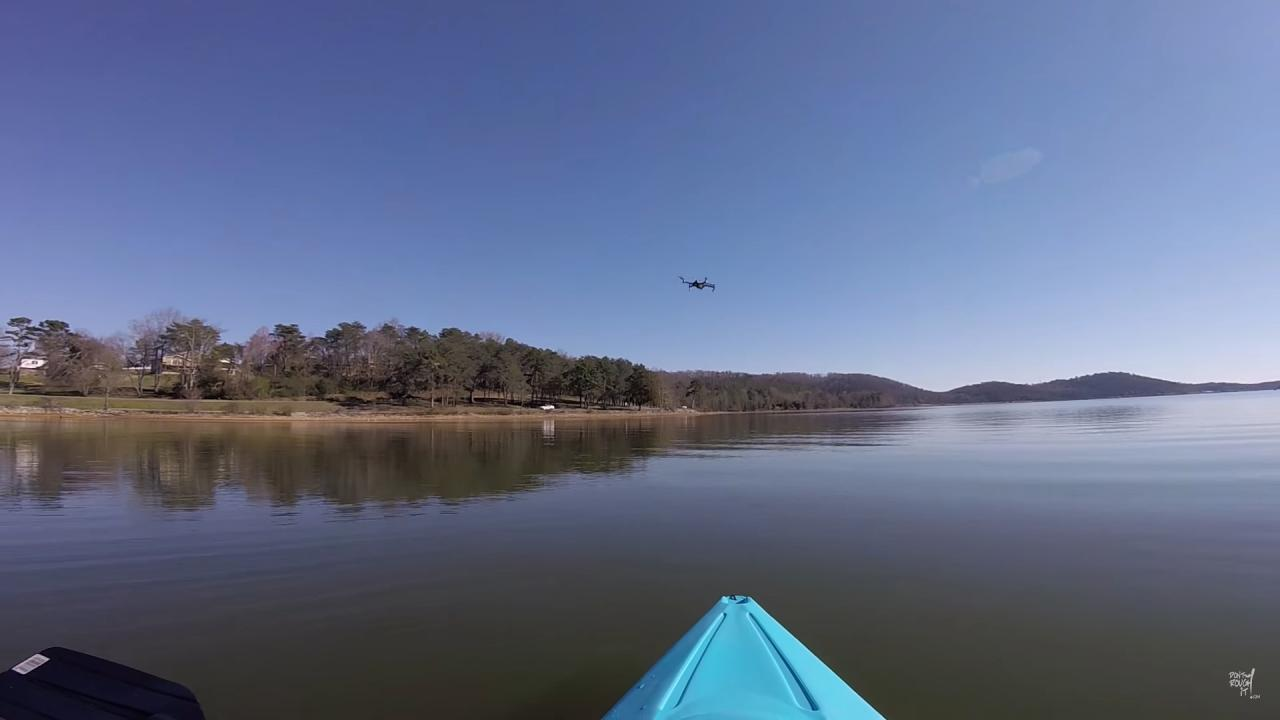Drone: (670, 267, 727, 301)
